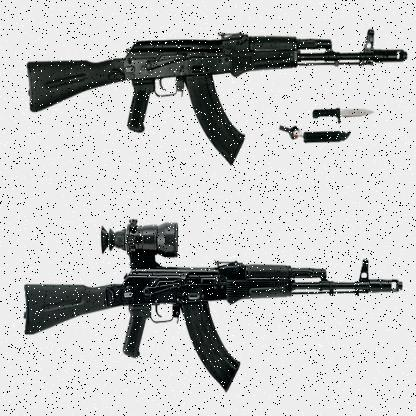rifle: (22, 210, 408, 410), (26, 8, 396, 171)
